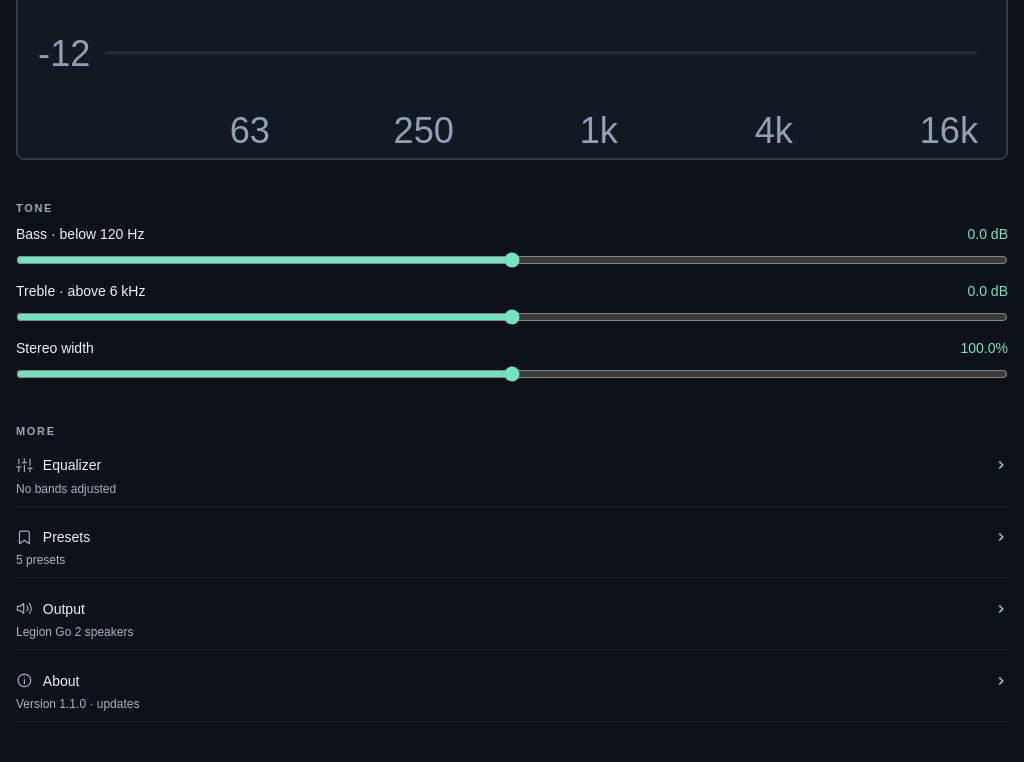
Test: summarises adjusted bands on the main row; unsaved changes are shown on the card and the heading only
(page scrolled)
Click the button "Equalizer No bands adjusted". click: (72, 465)
box: [16,449,1008,507]
(page scrolled)
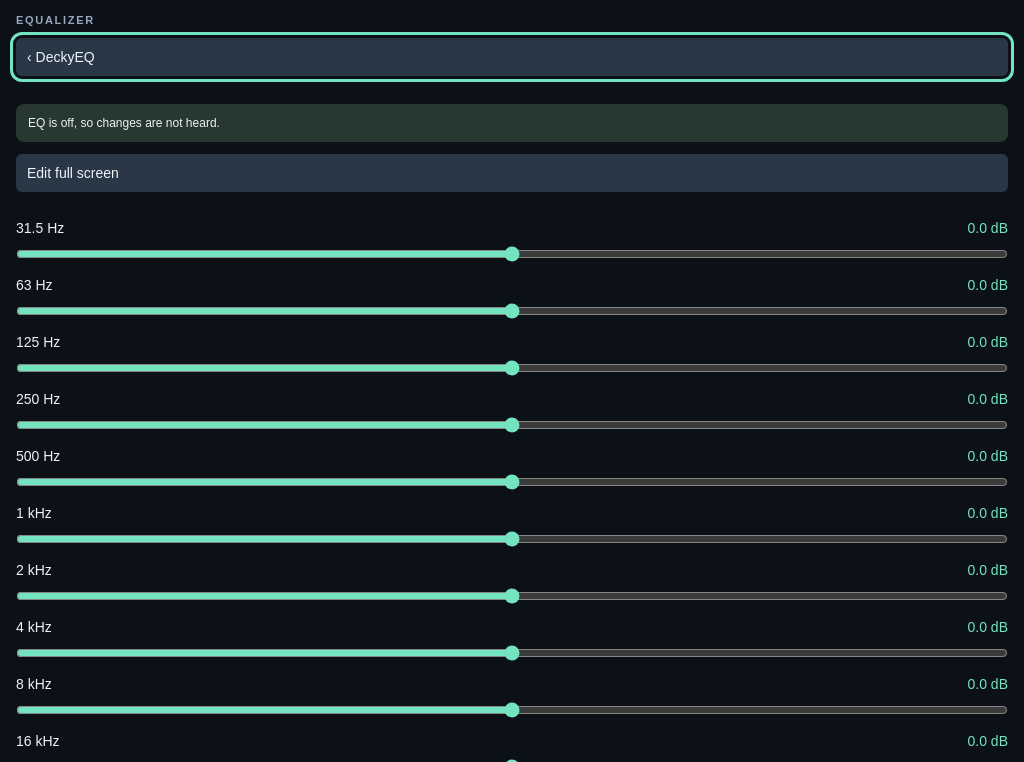
Set the slider labelled "63 Hz" to "3". click: (634, 311)
box: [16,305,1008,317]
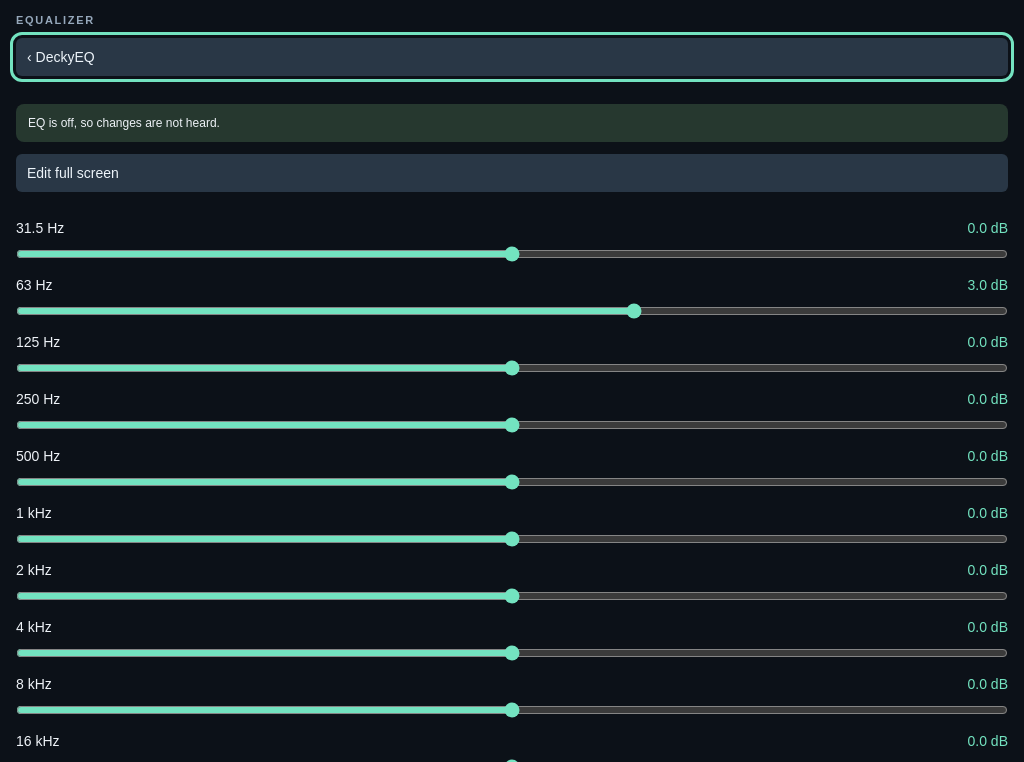
Click the button "‹ DeckyEQ". click: (65, 57)
box: [16,38,1008,76]
(page scrolled)
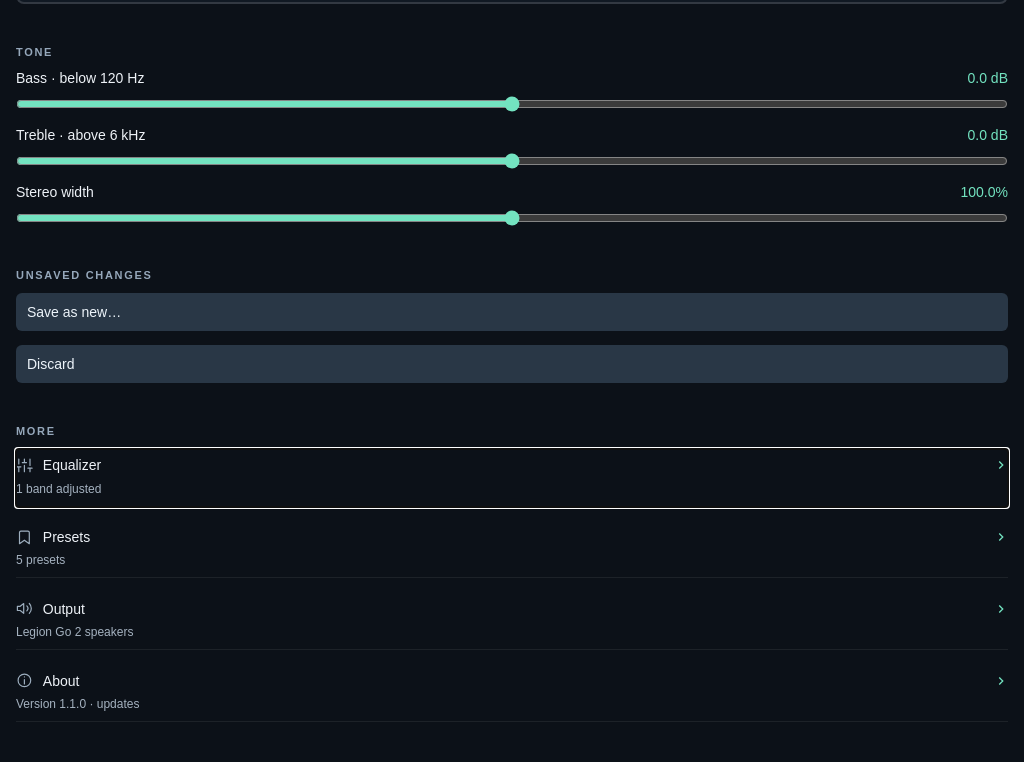
Result: the button "Equalizer 1 band adjusted" is shown at [16,449,1008,507]
Result: the button "Presets 5 presets" is shown at [16,521,1008,578]
Result: the heading "Unsaved changes" is shown at [16,269,152,281]
